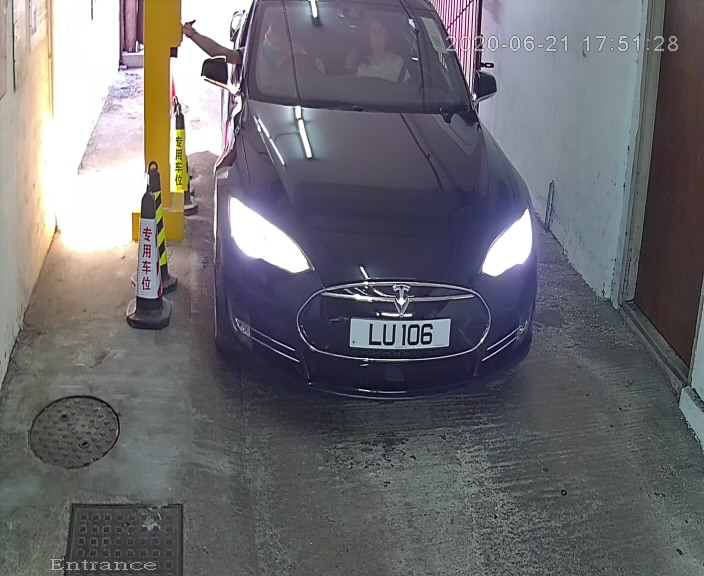privatecar: (174, 1, 570, 416)
